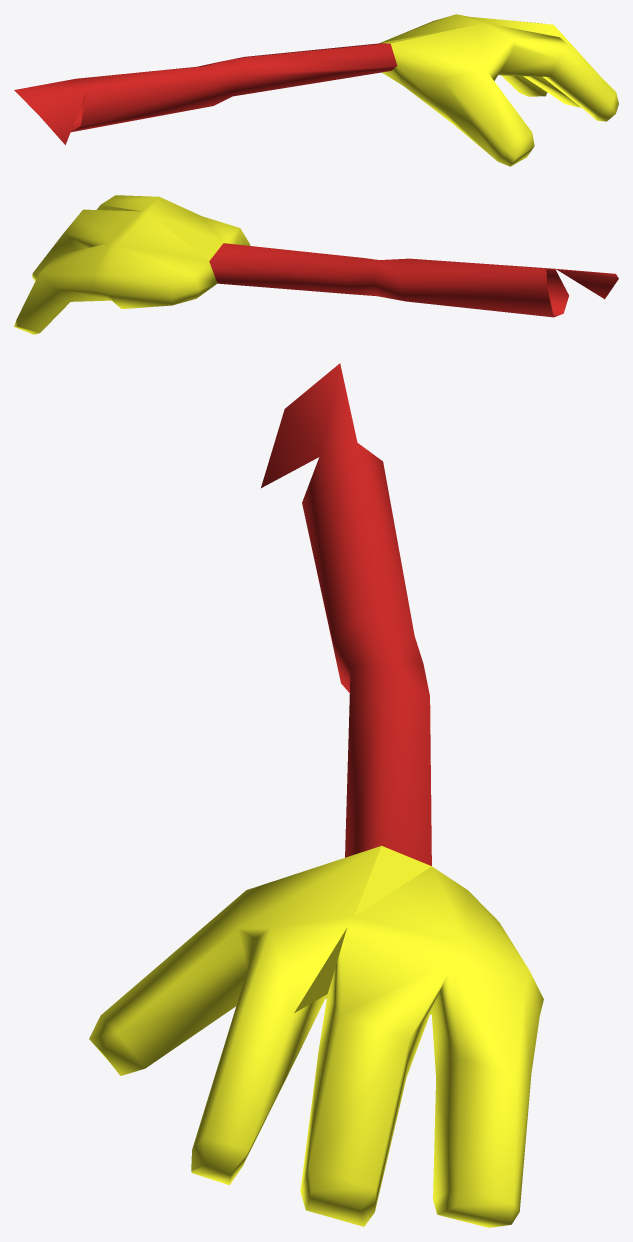
File: BraDer.obj
The picture shows the model from 3 angles, top to bottom: view 1: azimuth 30°, elevation 25°; view 2: azimuth 150°, elevation 25°; view 3: azimuth 270°, elevation 25°; orthographic projection. The views are drawn at different scales.
Parts seen in each view (by area): view 1: polySurface78; view 2: polySurface78; view 3: polySurface78.
Boxes of the visible parts, x1=… form: polySurface78: x1=14, y1=14, x2=618, y2=166; polySurface78: x1=14, y1=195, x2=618, y2=334; polySurface78: x1=89, y1=363, x2=543, y2=1227.
Bounding box in the file's own units: 1.63 × 0.4485 × 0.5549.
1 material, 1 textured.
